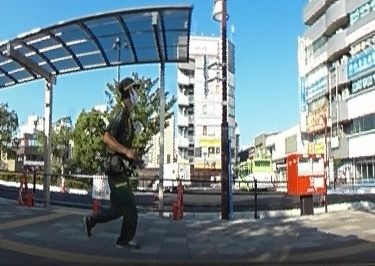person: (93, 76, 144, 254)
